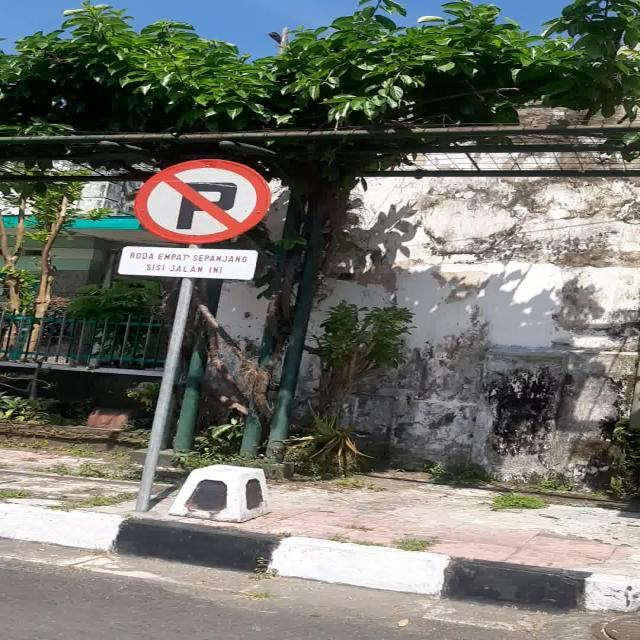Dilarang Parkir: (132, 158, 272, 244)
